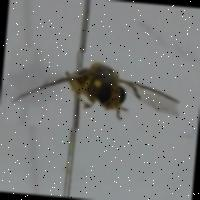Oriental-fruit-fly: (3, 46, 200, 139)
